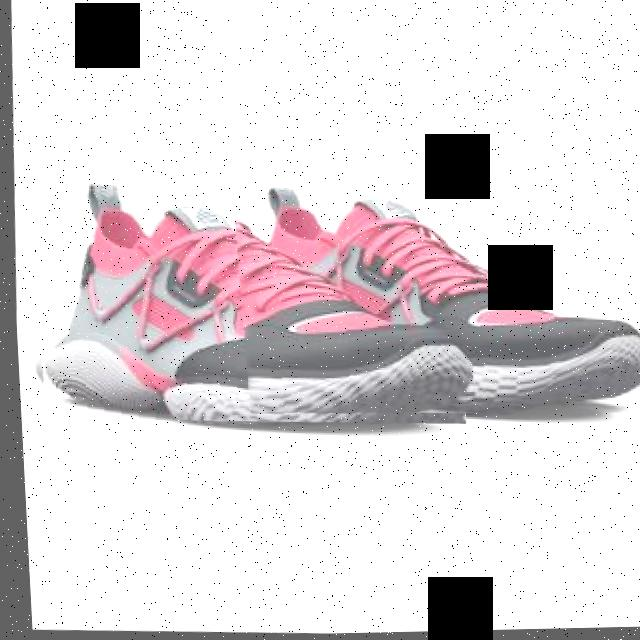shoe: (19, 177, 469, 433), (221, 181, 640, 428)
